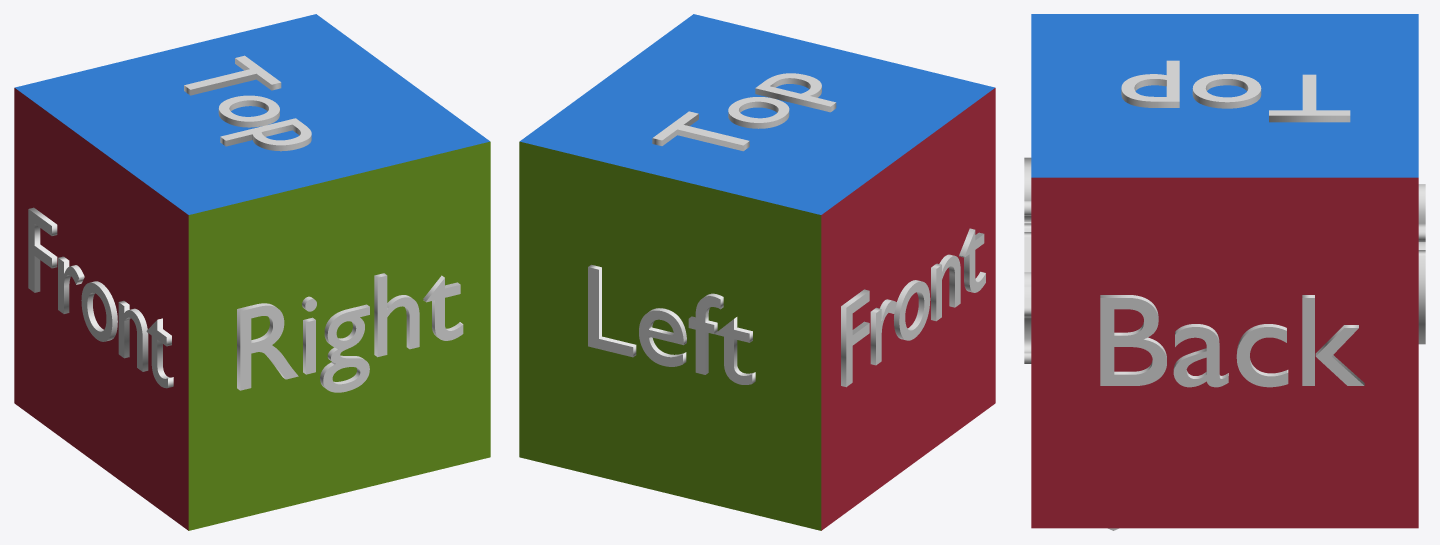
The picture shows the model from 3 angles, left to right: view 1: azimuth 30°, elevation 25°; view 2: azimuth 150°, elevation 25°; view 3: azimuth 270°, elevation 25°; orthographic projection. The views are drawn at different scales.
Visible parts, largest first — view 1: Cube, Text.004, Text.001, Text; view 2: Cube, Text.001, Text.003, Text; view 3: Cube, Text.002, Text, Text.004, Text.003.
Boxes of the visible parts, x1,y1,x2,y2 form: Cube: (14, 14, 490, 530); Text.004: (237, 273, 463, 392); Text.001: (28, 207, 173, 388); Text: (184, 55, 311, 151); Cube: (519, 14, 995, 530); Text.001: (841, 228, 985, 387); Text.003: (588, 264, 755, 384); Text: (652, 73, 836, 151); Cube: (1031, 14, 1418, 528); Text.002: (1100, 295, 1364, 387); Text: (1121, 60, 1350, 122); Text.004: (1024, 157, 1031, 363); Text.003: (1418, 184, 1425, 344).
Bounding box in the file's own units: 2.07 × 2.07 × 2.07.
